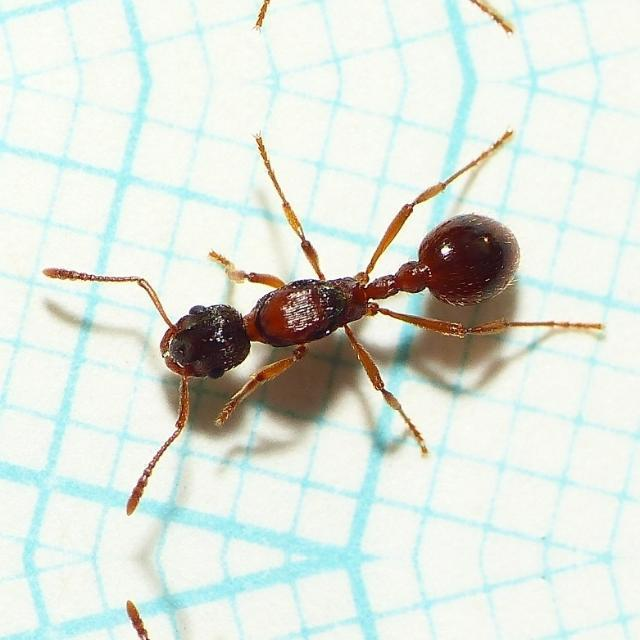Myrmica: (124, 162, 580, 420)
